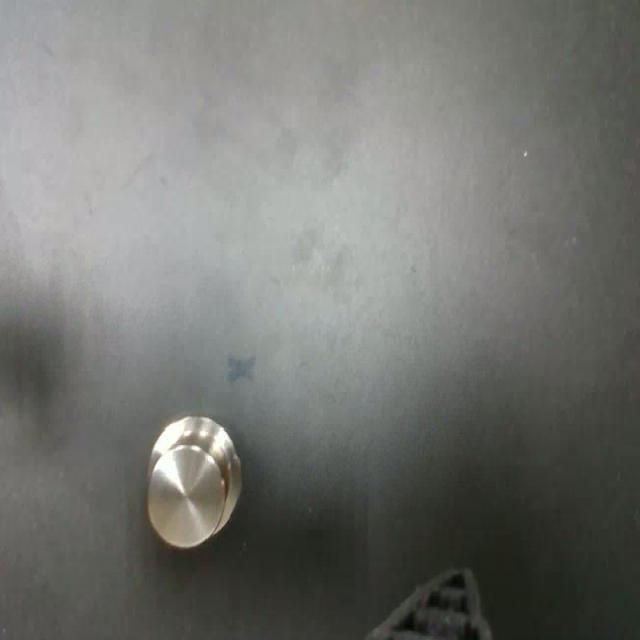sensor: (141, 410, 242, 548)
